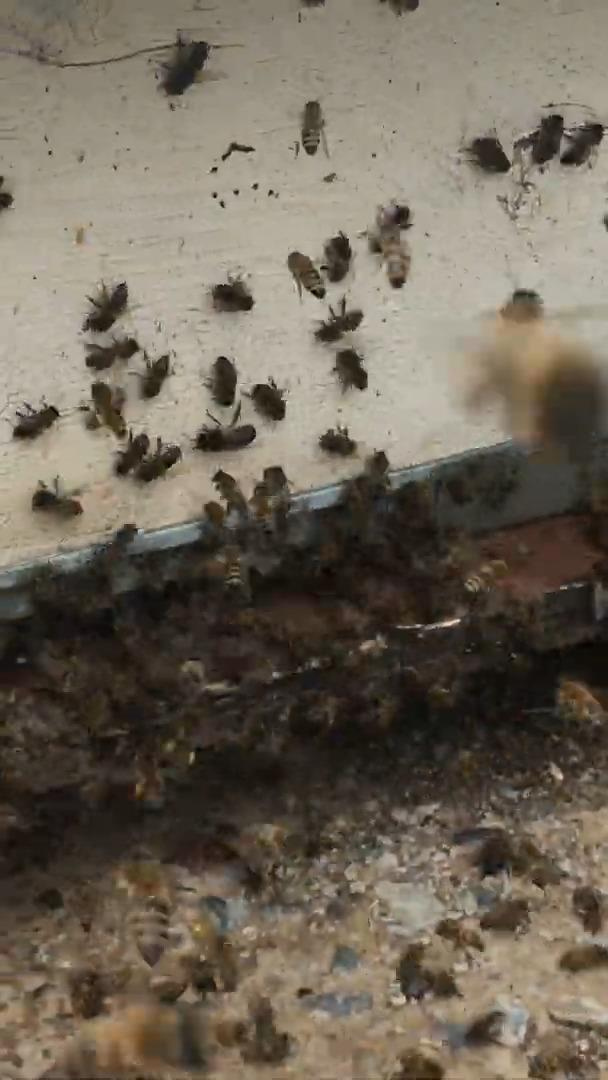worker-bee: (116, 859, 174, 967), (188, 916, 237, 993), (368, 204, 410, 288), (193, 401, 256, 452), (160, 35, 211, 96), (82, 281, 128, 333), (89, 380, 127, 437), (31, 477, 83, 518), (134, 437, 181, 482), (315, 297, 362, 342), (556, 678, 604, 721), (560, 121, 604, 166), (461, 133, 510, 173), (85, 335, 139, 371), (287, 251, 325, 299), (220, 545, 250, 603), (12, 402, 59, 439), (205, 356, 237, 407), (532, 113, 563, 165), (114, 430, 149, 476), (212, 469, 246, 516), (247, 378, 285, 420), (463, 558, 506, 595), (435, 917, 483, 950), (138, 352, 170, 399), (211, 277, 254, 311), (333, 348, 367, 391), (301, 100, 327, 155), (323, 231, 351, 282), (318, 427, 356, 456), (263, 465, 288, 494)
